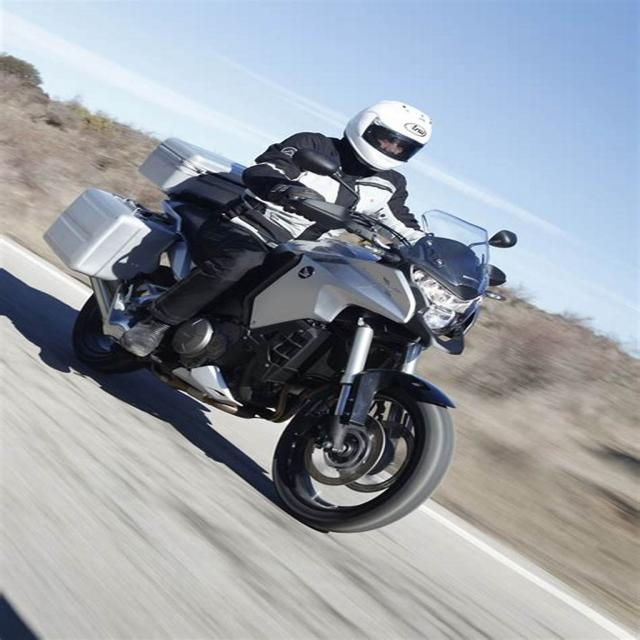helmet: (337, 96, 436, 176)
